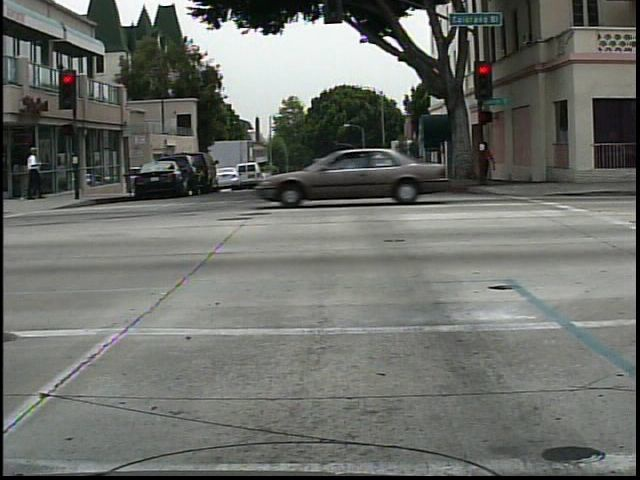person: (20, 142, 49, 207), (470, 140, 501, 193)
